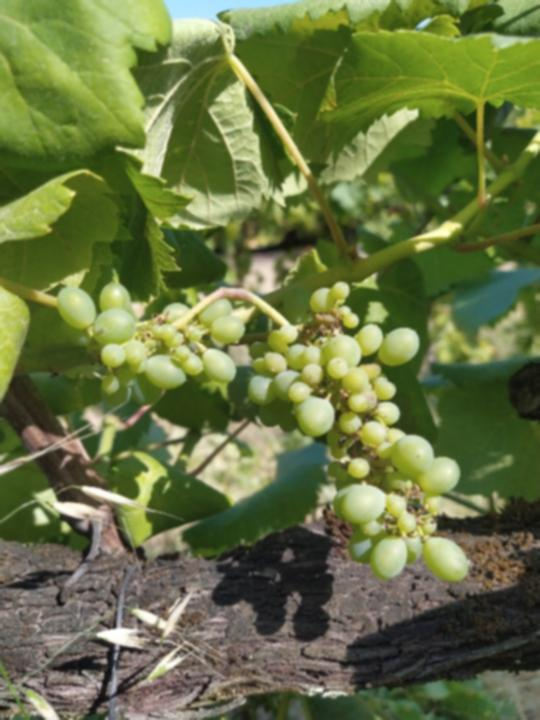grape: (52, 270, 477, 589)
